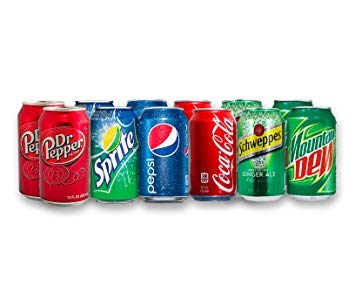pepsi: (147, 124, 177, 155)
